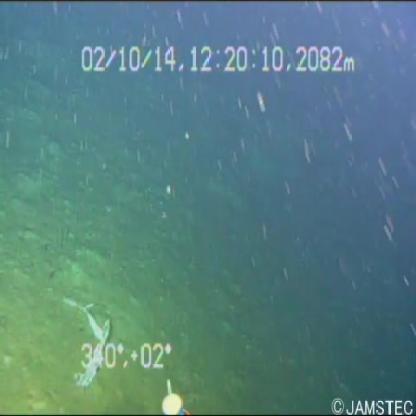Rov: (152, 379, 198, 416)
Rác: (56, 296, 121, 387)
